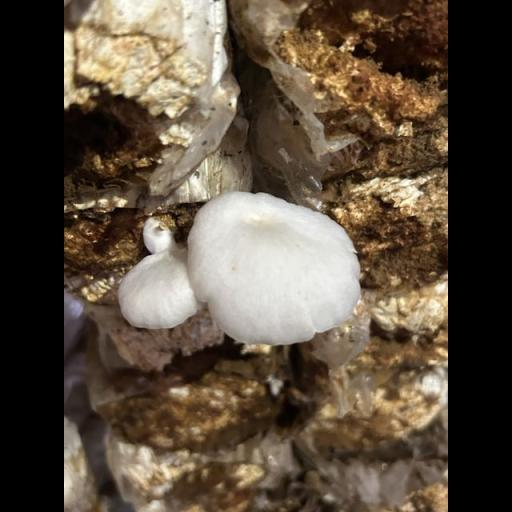White Oyster Mushroom: (119, 191, 361, 348)
